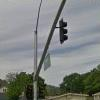Traffic light: (54, 10, 78, 51)
